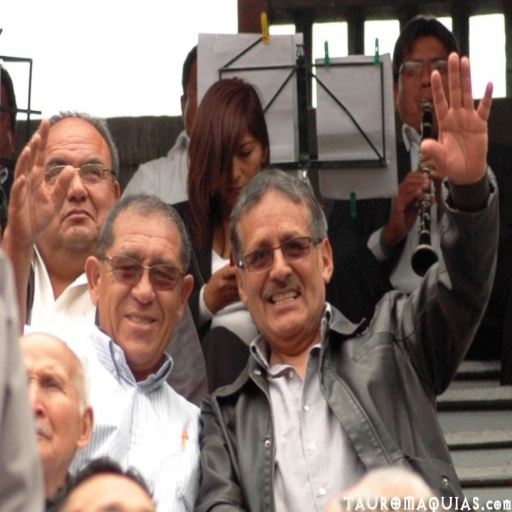hand: (422, 46, 505, 183), (2, 116, 74, 251), (387, 167, 427, 240), (202, 259, 243, 316), (417, 151, 445, 183)
